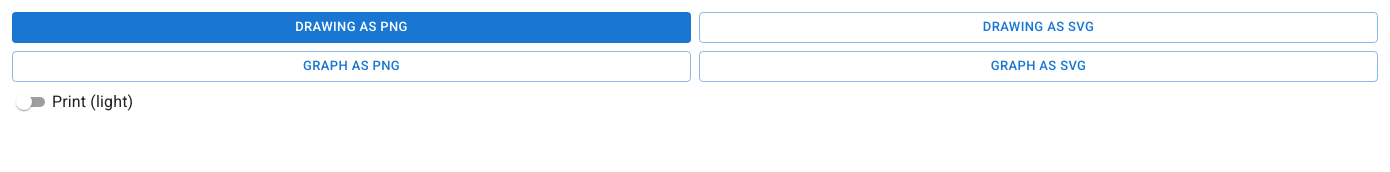
Scenario: ImageExportActions › shows a localized error message for any other failure
This screenshot has width=1390, height=172.
What coordinates should you click on to do the following:
click the button with test id "export-drawing-svg"
I would click on:
 (1038, 27)
Its box is [699,12,1378,43].
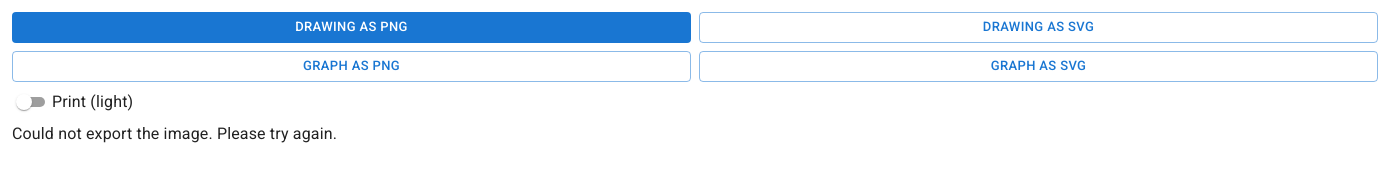
Result: the message shows "try again" at [12,124,337,142]
